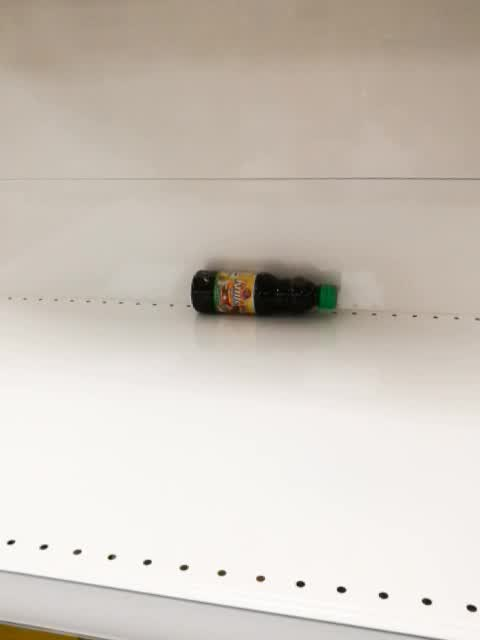cookingoil: (189, 266, 339, 318)
